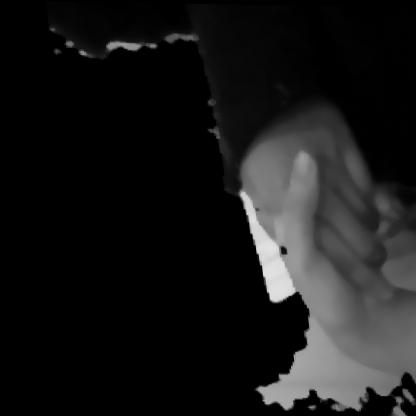handshake: (186, 39, 415, 383)
